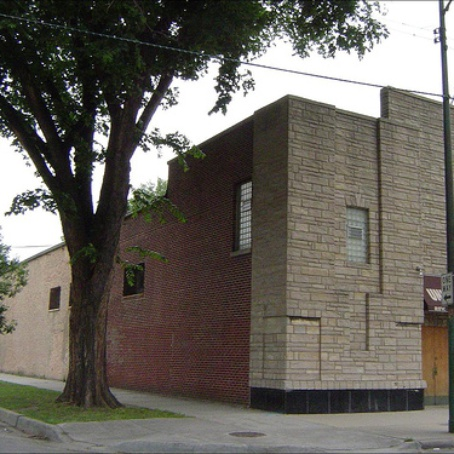building: (1, 84, 447, 404)
tree: (1, 1, 371, 404)
